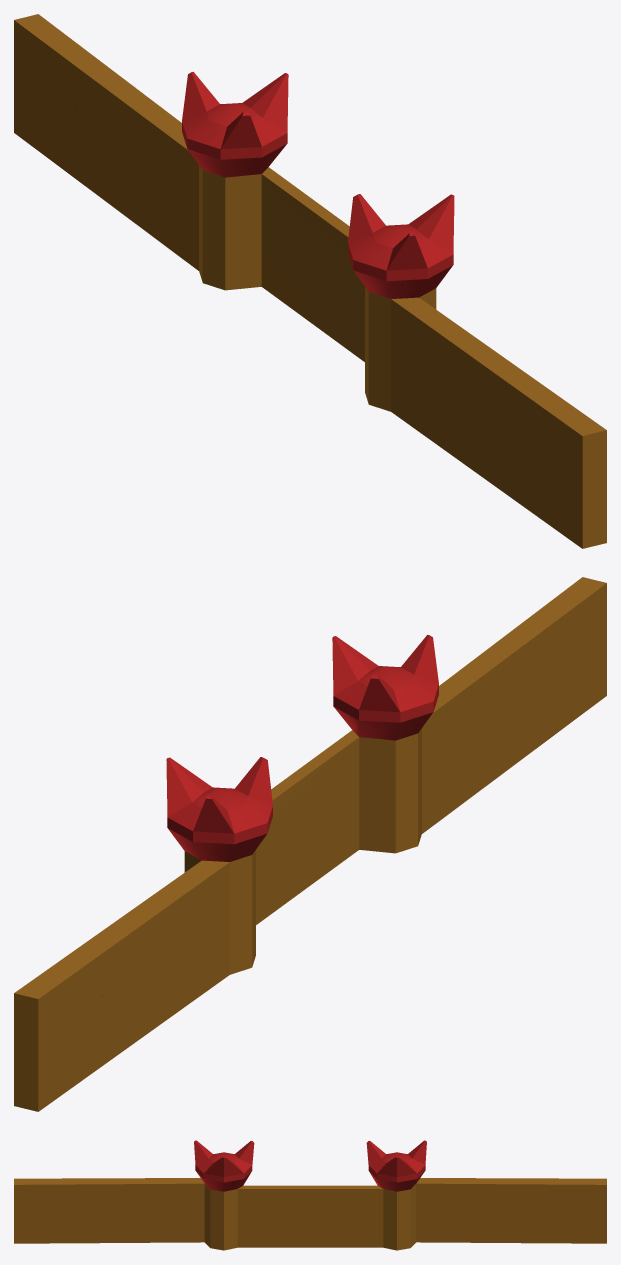
The model's file is OrcWall2.fbx.
3 renders of one model, top to bottom at view 1: azimuth 30°, elevation 25°; view 2: azimuth 150°, elevation 25°; view 3: azimuth 270°, elevation 25°, orthographic. The views are drawn at different scales.
Parts seen in each view (by area): view 1: Wall4; view 2: Wall4; view 3: Wall4.
Part boxes in pixels (bbox=[...]): Wall4: bbox=[14, 14, 606, 548]; Wall4: bbox=[14, 577, 606, 1111]; Wall4: bbox=[14, 1140, 606, 1250].
Size of the model in its own units: 106 by 190 by 1036.
